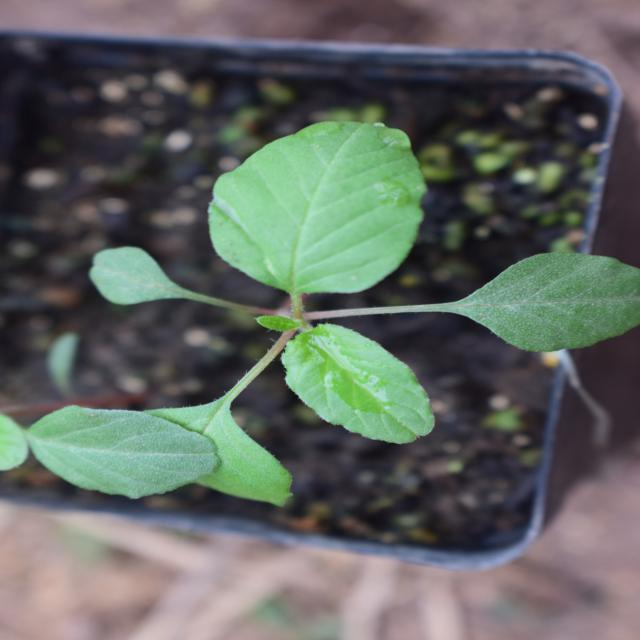pigweed: (137, 142, 544, 634)
